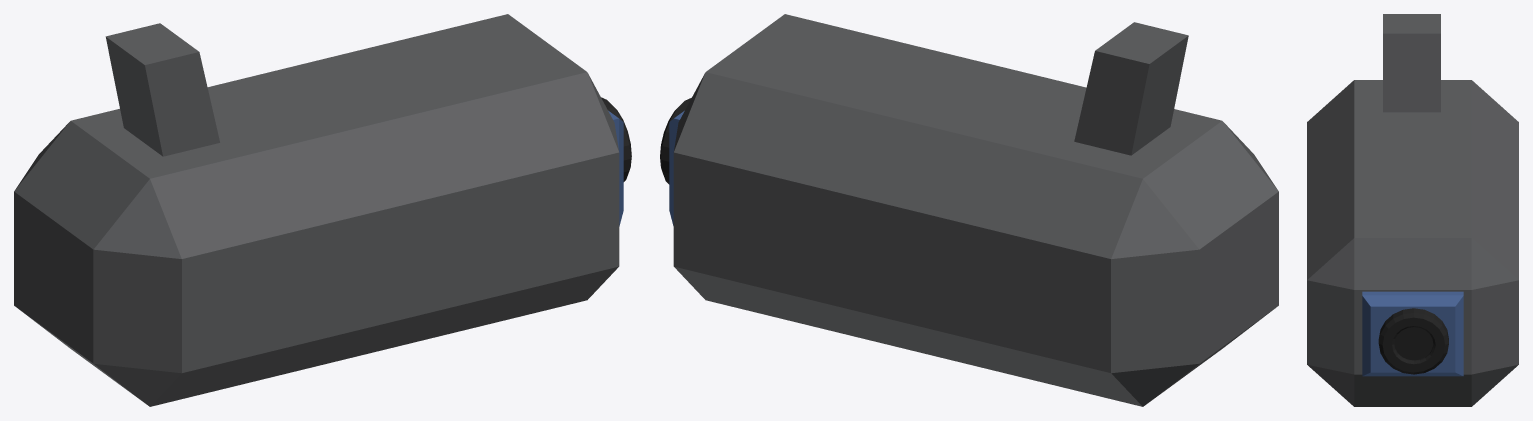
File: Obj_CCTV.fbx
The picture shows the model from 3 angles, left to right: view 1: azimuth 30°, elevation 25°; view 2: azimuth 150°, elevation 25°; view 3: azimuth 270°, elevation 25°; orthographic projection. The views are drawn at different scales.
Visible parts, largest first — view 1: Obj_CCTV; view 2: Obj_CCTV; view 3: Obj_CCTV.
Boxes of the visible parts, x1,y1,x2,y2 form: Obj_CCTV: (14, 14, 631, 406); Obj_CCTV: (660, 14, 1278, 406); Obj_CCTV: (1307, 14, 1518, 406).
Bounding box in the file's own units: 0.45 × 0.25 × 0.2.
